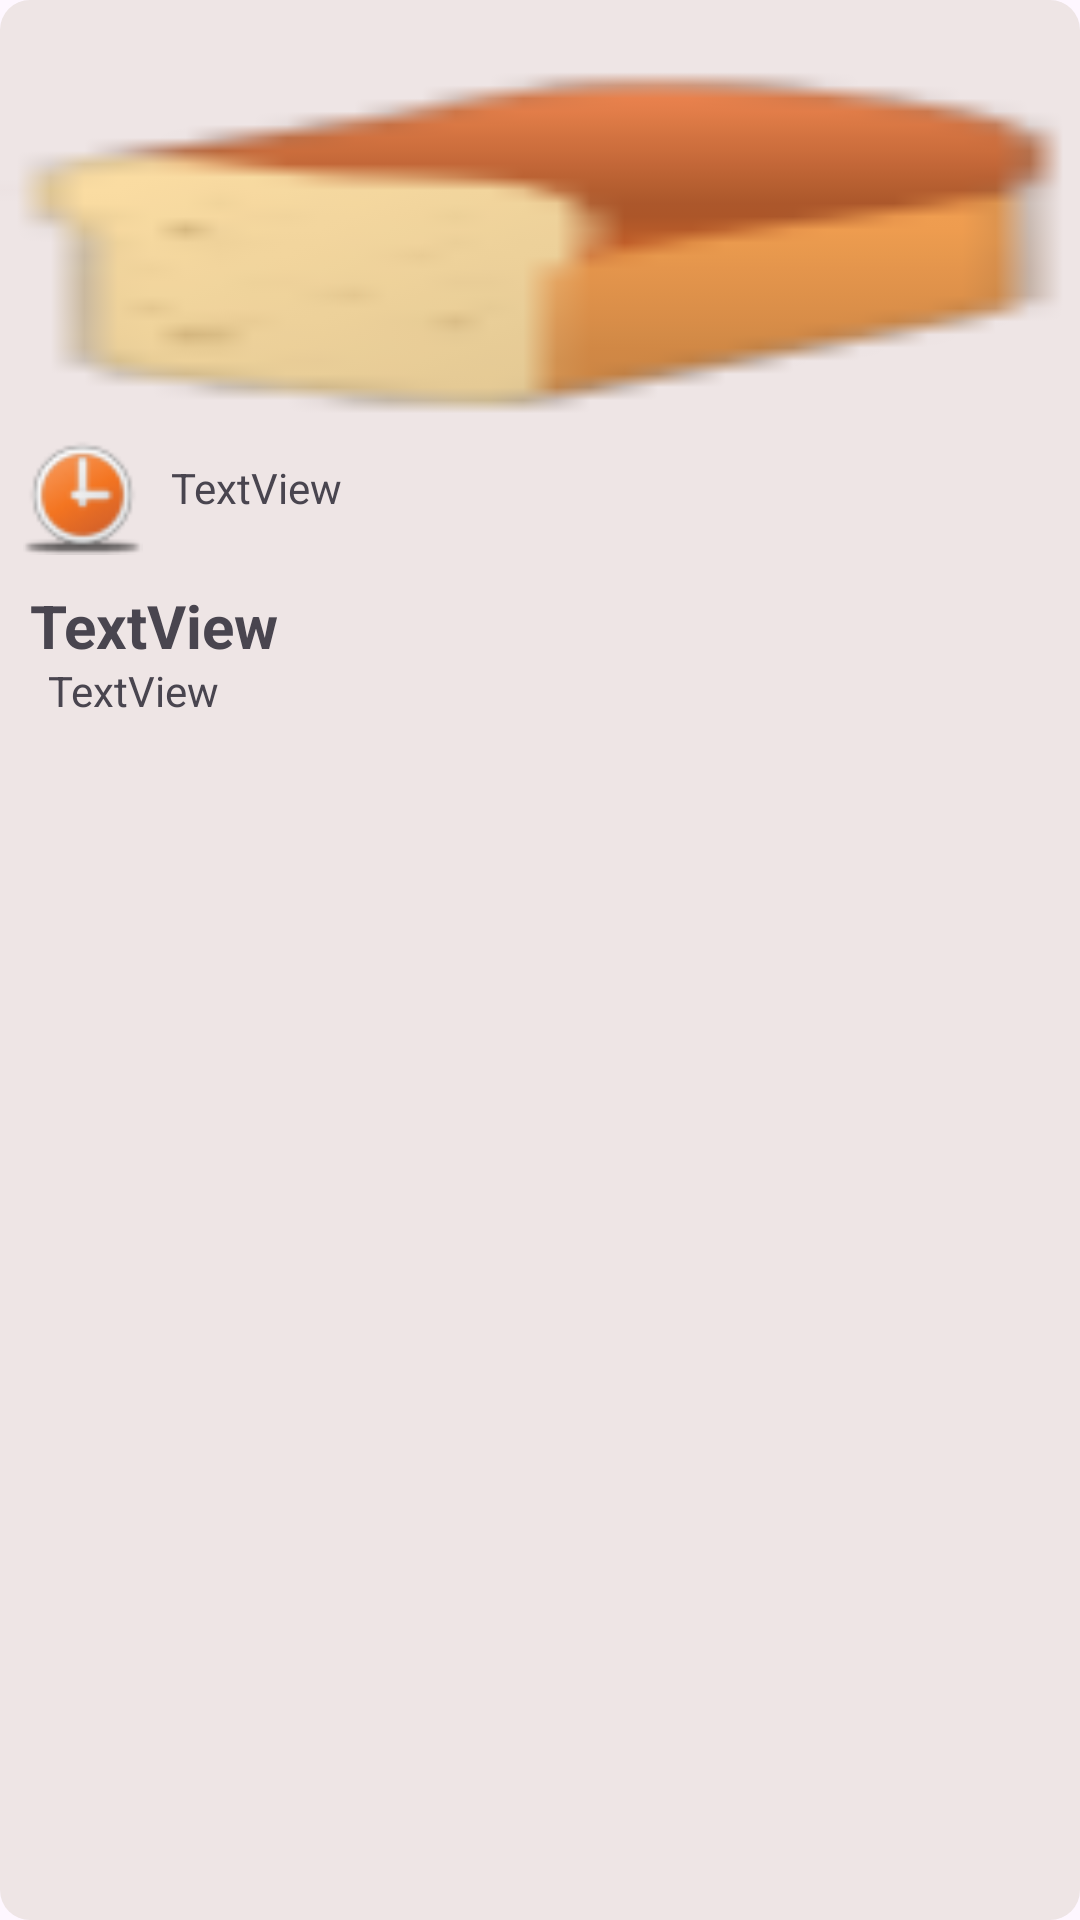

Where to tap for icons on this 1080px x 1920px app screen, as (x=x, y=y):
clock: (x=82, y=499)
